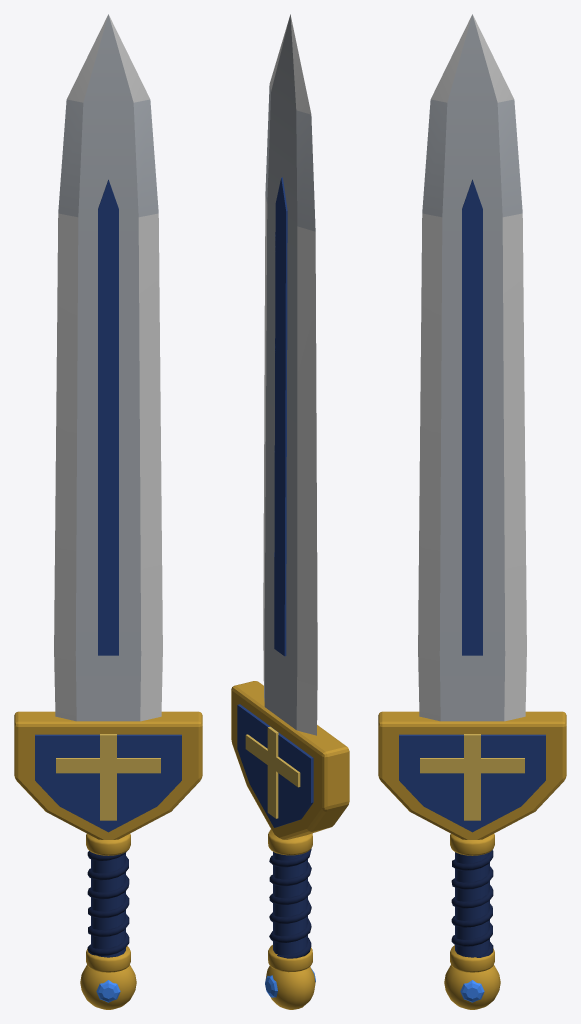
Rendered from sword_aegis.fbx.
The picture shows the model from 3 angles, left to right: view 1: azimuth 90°, elevation 25°; view 2: azimuth 210°, elevation 25°; view 3: azimuth 270°, elevation 25°; orthographic projection.
Visible parts, largest first — view 1: sword_aegis; view 2: sword_aegis; view 3: sword_aegis.
Part boxes in pixels (left/top/right/bottom): sword_aegis: left=14, top=14, right=202, bottom=1009; sword_aegis: left=231, top=14, right=349, bottom=1009; sword_aegis: left=378, top=14, right=566, bottom=1009.
Size of the model in its own units: 0.0486 by 1.05 by 0.18.
